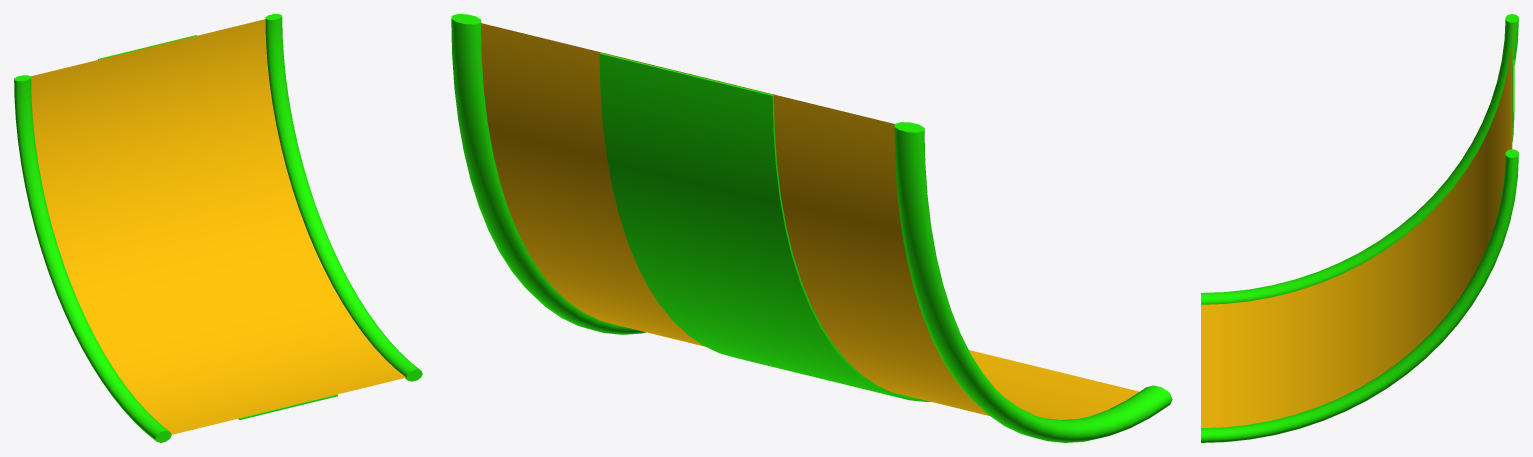
Rendered from Ramp L 90.FBX.
3 views of the same model, side by side, from view 1: azimuth 30°, elevation 25°; view 2: azimuth 150°, elevation 25°; view 3: azimuth 270°, elevation 25° (orthographic). The views are drawn at different scales.
Parts seen in each view (by area): view 1: Plane002; view 2: Plane002; view 3: Plane002.
Part boxes in pixels (x1,y1,x2,y2): Plane002: (14, 14, 422, 442); Plane002: (451, 14, 1172, 442); Plane002: (1201, 14, 1518, 442).
Size of the model in its own units: 1.9 by 1.77 by 1.77.
